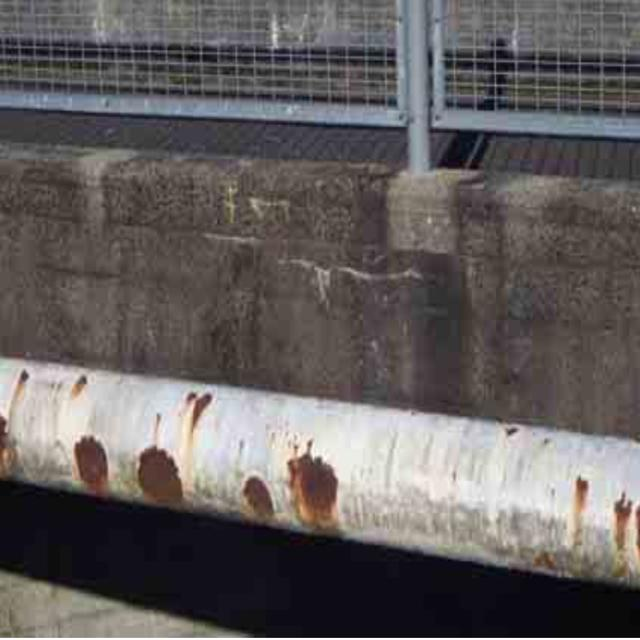corrosion: (11, 366, 340, 531), (567, 464, 640, 566)
